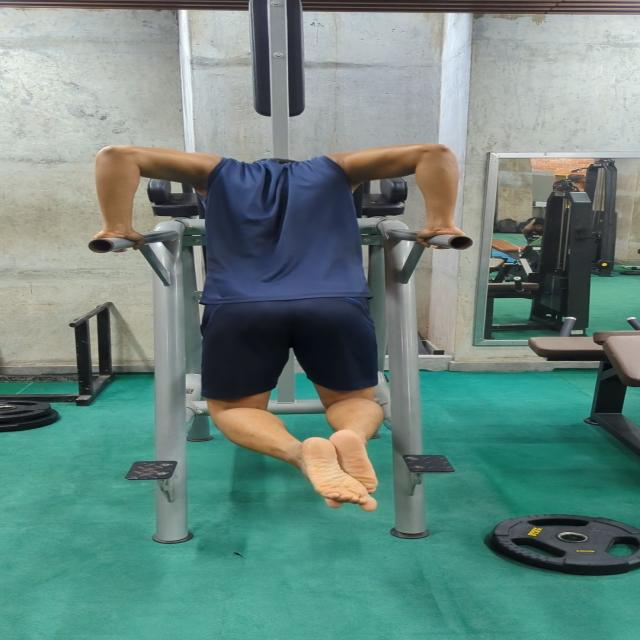Normal_Dips: (83, 132, 498, 515)
